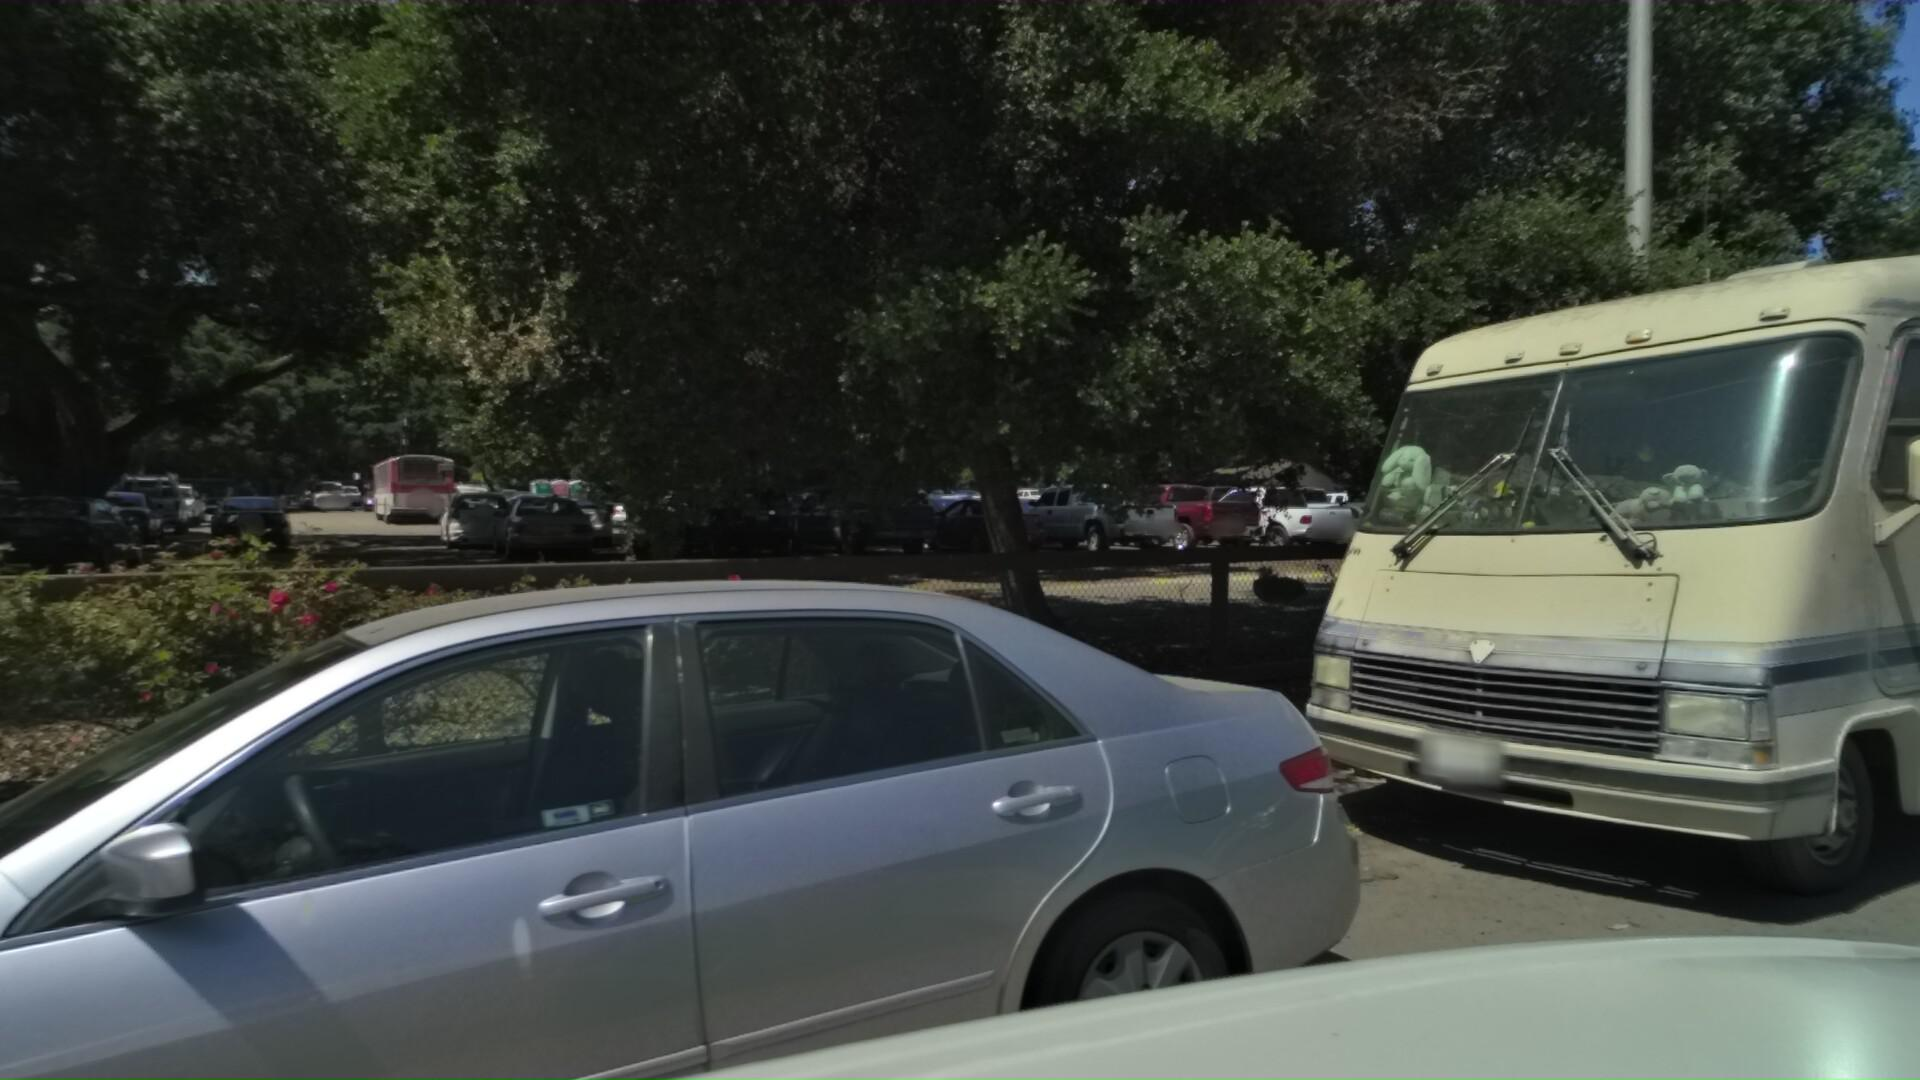car: (0, 538, 1577, 1080)
other_vehicle: (1292, 105, 1920, 1052)
